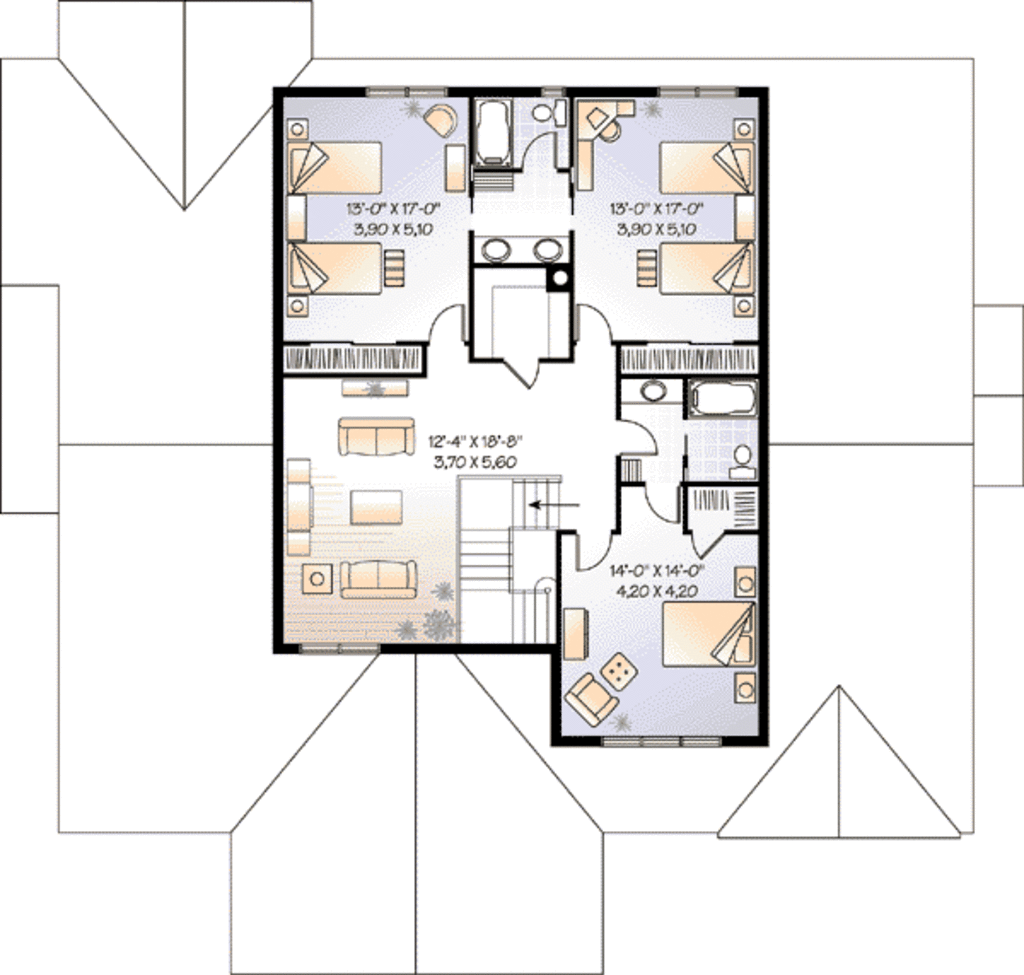bed: (661, 593, 761, 676), (281, 136, 394, 197), (648, 139, 754, 203), (287, 239, 394, 297), (661, 241, 760, 300)
door: (609, 412, 664, 456), (575, 294, 618, 344), (575, 527, 615, 577), (644, 480, 682, 532), (499, 357, 551, 393), (426, 302, 461, 353), (523, 126, 559, 175), (693, 527, 736, 566)
large_sink: (524, 94, 567, 130), (730, 442, 760, 481)
large_sofa: (333, 550, 424, 606), (333, 412, 420, 469)
small_sink: (473, 236, 572, 260), (627, 371, 675, 402)
small_sofa: (551, 666, 632, 732)
stairs: (456, 472, 559, 638)
tub: (682, 380, 761, 427), (470, 93, 515, 169)
window: (606, 738, 718, 751), (656, 84, 735, 100), (294, 641, 390, 653), (367, 86, 441, 99)
